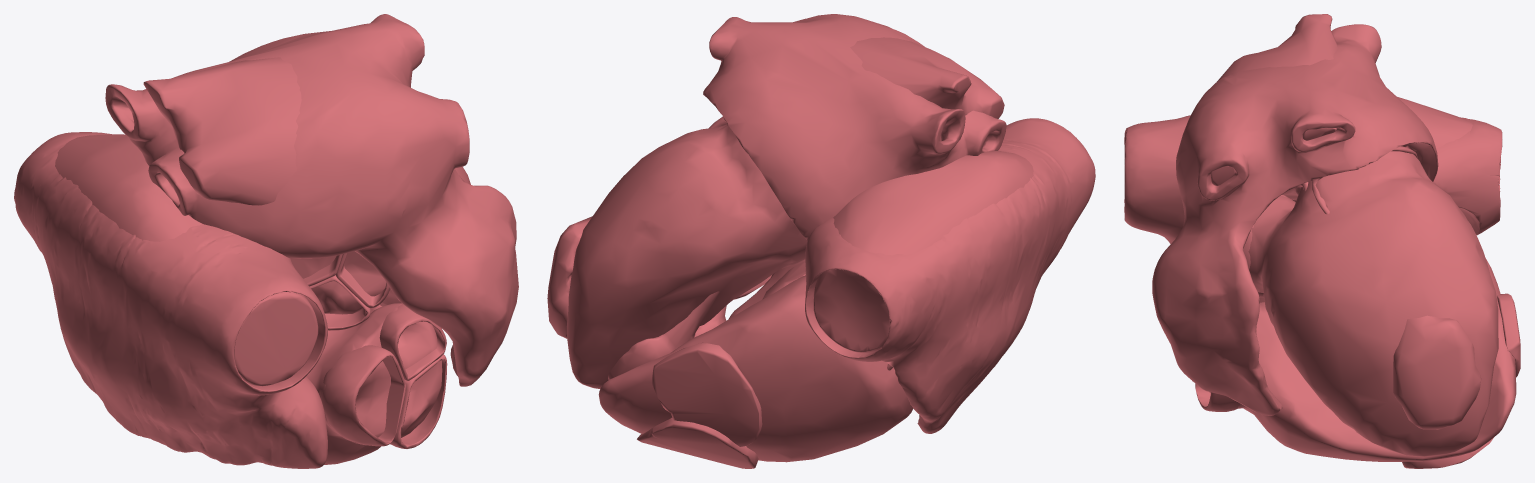
File: heart.glb
3 views of the same model, side by side, from view 1: azimuth 30°, elevation 25°; view 2: azimuth 150°, elevation 25°; view 3: azimuth 270°, elevation 25° (orthographic). The views are drawn at different scales.
Visible parts, largest first — view 1: left atrium, right atrium, right ventricle, left ventricle, fibrous skeleton of heart; view 2: right atrium, left atrium, left ventricle, right ventricle; view 3: left ventricle, left atrium, right atrium, right ventricle.
Part boxes in pixels (left/top/right/bottom): left atrium: left=105, top=14, right=518, bottom=386; right atrium: left=14, top=132, right=327, bottom=468; right ventricle: left=306, top=303, right=447, bottom=464; left ventricle: left=290, top=166, right=470, bottom=330; fibrous skeleton of heart: left=303, top=253, right=389, bottom=306; right atrium: left=805, top=118, right=1095, bottom=433; left atrium: left=703, top=14, right=1006, bottom=299; left ventricle: left=547, top=124, right=807, bottom=388; right ventricle: left=598, top=259, right=913, bottom=468; left ventricle: left=1244, top=146, right=1498, bottom=456; left atrium: left=1152, top=14, right=1438, bottom=415; right atrium: left=1124, top=97, right=1502, bottom=302; right ventricle: left=1192, top=258, right=1520, bottom=468.
Size of the model in its own units: 111 by 103 by 101.
